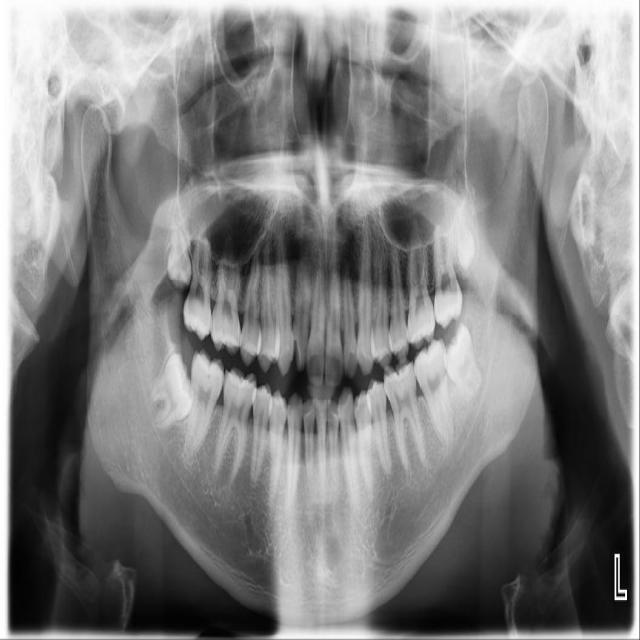impacted tooth: (147, 353, 195, 428), (442, 324, 480, 400), (167, 199, 190, 280), (455, 199, 475, 267)
